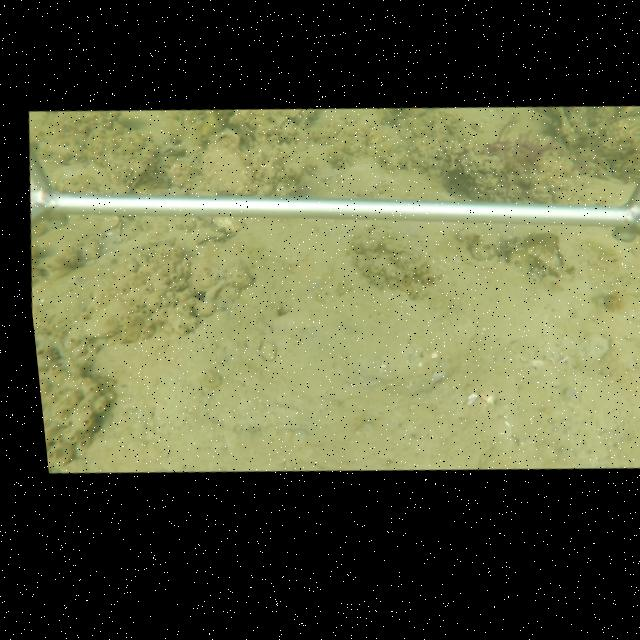Oyster-Closed: (201, 135, 254, 195), (81, 297, 132, 340)
